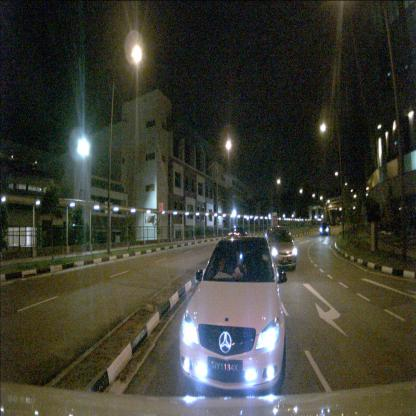vehicle-car: (179, 236, 291, 397), (265, 225, 299, 271), (226, 226, 249, 240), (319, 221, 331, 235)
